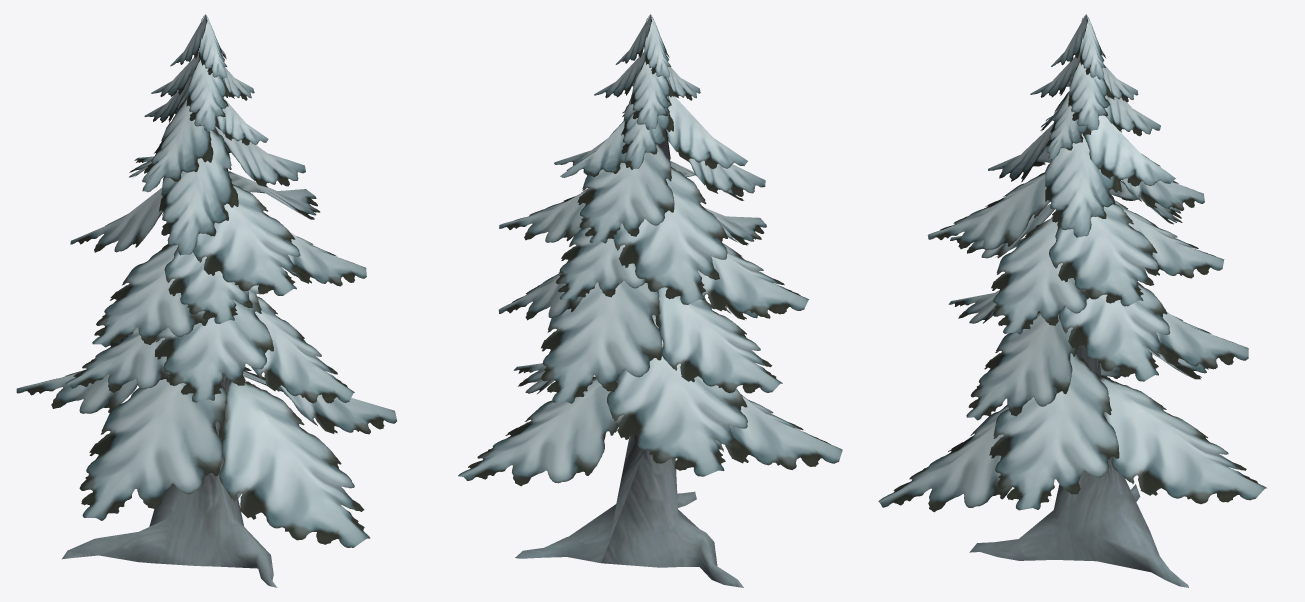
The model's file is LGhuangyuan_shu05.FBX.
The picture shows the model from 3 angles, left to right: view 1: azimuth 30°, elevation 25°; view 2: azimuth 150°, elevation 25°; view 3: azimuth 270°, elevation 25°; orthographic projection.
Parts seen in each view (by area): view 1: LGhuangyuan_shuye05, LGhuangyuan_shugan05; view 2: LGhuangyuan_shuye05, LGhuangyuan_shugan05; view 3: LGhuangyuan_shuye05, LGhuangyuan_shugan05.
Boxes of the visible parts, x1,y1,x2,y2 form: LGhuangyuan_shuye05: [16, 14, 396, 547]; LGhuangyuan_shugan05: [62, 47, 277, 587]; LGhuangyuan_shuye05: [458, 14, 842, 486]; LGhuangyuan_shugan05: [515, 129, 743, 587]; LGhuangyuan_shuye05: [878, 14, 1266, 512]; LGhuangyuan_shugan05: [969, 345, 1188, 587].
Bounding box in the file's own units: 174 × 185 × 260.
